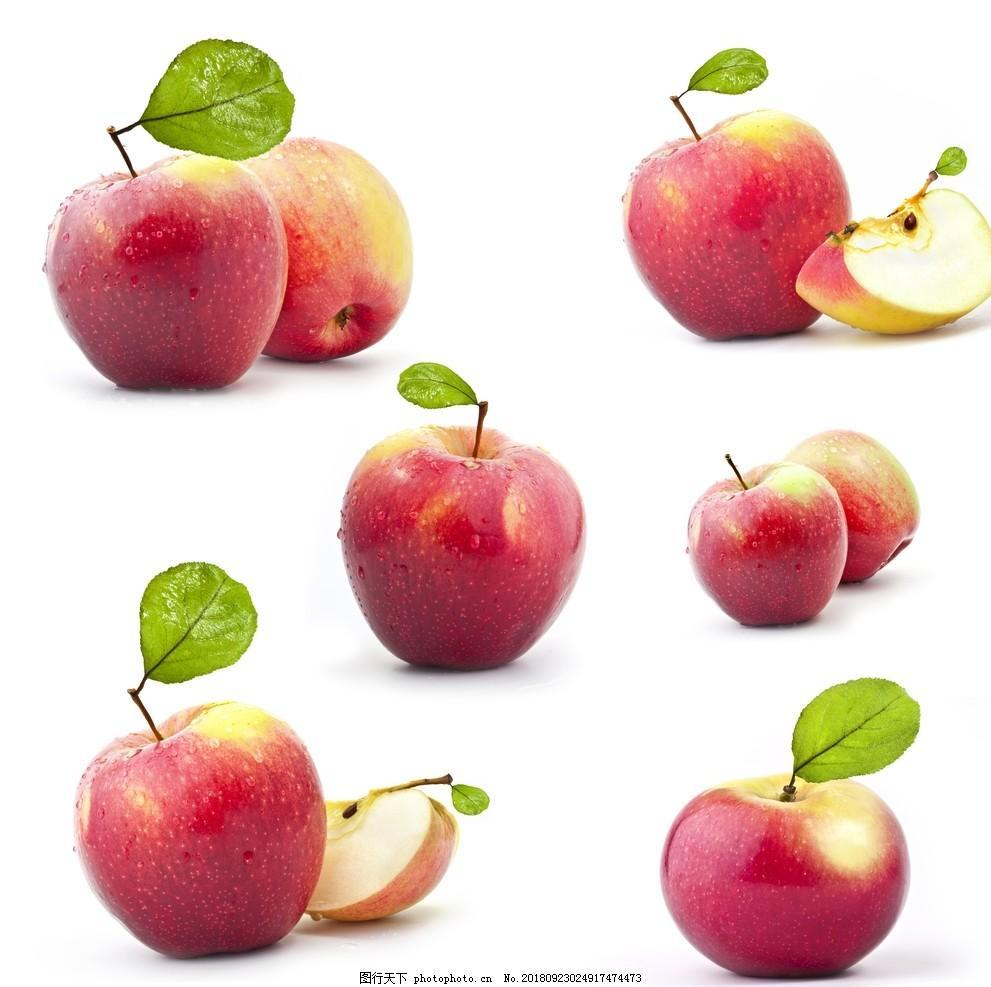apple: (49, 81, 416, 388), (334, 410, 588, 669), (68, 705, 326, 959), (45, 152, 289, 392), (620, 107, 851, 342), (658, 775, 907, 976), (685, 425, 915, 620), (251, 138, 414, 365)
